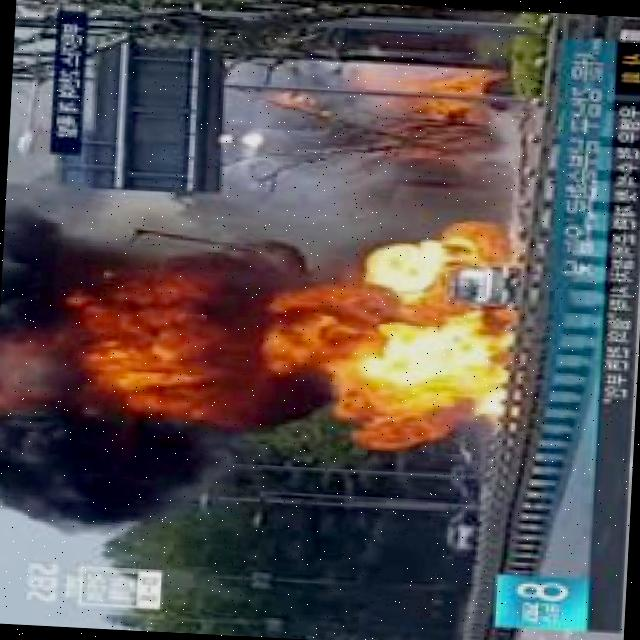fire: (314, 235, 522, 461)
